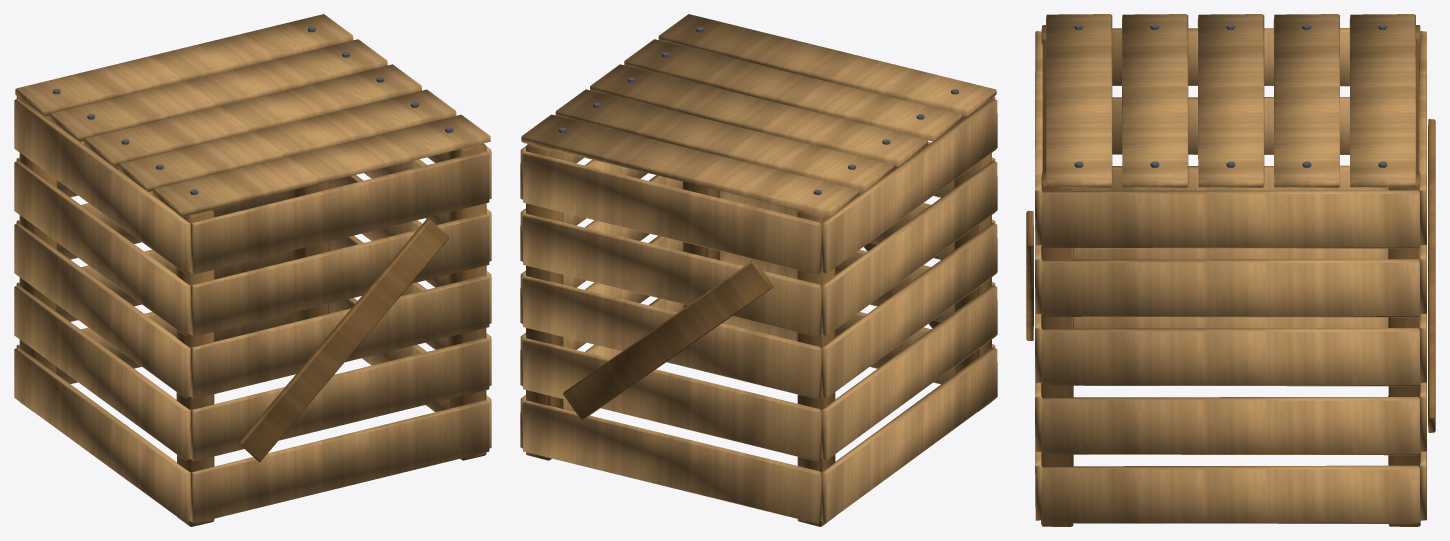
The model's file is caixote-leve.glb.
The picture shows the model from 3 angles, left to right: view 1: azimuth 30°, elevation 25°; view 2: azimuth 150°, elevation 25°; view 3: azimuth 270°, elevation 25°; orthographic projection. The views are drawn at different scales.
Visible parts, largest first — view 1: ripa.008, ripa, ripa.006, ripa.002, ripa.004, tampa, tampa.002, tampa.001, tampa.003, tampa.004, ripa-lado.004, ripa-lado.008 (+15 smaller); view 2: ripa.009, ripa.001, ripa.007, ripa.003, ripa.005, tampa.004, tampa.001, tampa, tampa.003, tampa.002, ripa-lado.002, ripa-lado.006 (+15 smaller); view 3: ripa-lado.009, ripa-lado.007, ripa-lado.005, ripa-lado.001, ripa-lado.003, tampa.002, tampa, tampa.001, tampa.004, tampa.003, ripa-lado.002, ripa-lado (+19 smaller).
Boxes of the visible parts, bbox=[...] form: ripa.008: bbox=[190, 151, 489, 274]; ripa: bbox=[190, 400, 489, 523]; ripa.006: bbox=[190, 213, 489, 336]; ripa.002: bbox=[190, 337, 489, 461]; ripa.004: bbox=[190, 275, 489, 398]; tampa: bbox=[152, 114, 490, 217]; tampa.002: bbox=[84, 64, 421, 166]; tampa.001: bbox=[118, 89, 456, 192]; tampa.003: bbox=[49, 39, 387, 141]; tampa.004: bbox=[15, 14, 353, 116]; ripa-lado.004: bbox=[14, 223, 190, 398]; ripa-lado.008: bbox=[14, 98, 190, 273]; ripa.009: bbox=[522, 151, 821, 274]; ripa.001: bbox=[522, 400, 821, 523]; ripa.007: bbox=[522, 213, 821, 336]; ripa.003: bbox=[522, 338, 821, 461]; ripa.005: bbox=[522, 276, 821, 399]; tampa.004: bbox=[521, 114, 859, 216]; tampa.001: bbox=[624, 39, 962, 141]; tampa: bbox=[658, 14, 996, 116]; tampa.003: bbox=[555, 89, 893, 191]; tampa.002: bbox=[590, 64, 927, 166]; ripa-lado.002: bbox=[821, 285, 997, 459]; ripa-lado.006: bbox=[821, 160, 997, 335]; ripa-lado.009: bbox=[1042, 190, 1419, 248]; ripa-lado.007: bbox=[1042, 259, 1419, 317]; ripa-lado.005: bbox=[1042, 328, 1419, 386]; ripa-lado.001: bbox=[1042, 465, 1419, 523]; ripa-lado.003: bbox=[1042, 397, 1419, 455]; tampa.002: bbox=[1197, 14, 1264, 187]; tampa: bbox=[1046, 14, 1112, 187]; tampa.001: bbox=[1122, 14, 1188, 187]; tampa.004: bbox=[1349, 14, 1415, 187]; tampa.003: bbox=[1273, 14, 1339, 187]; ripa-lado.002: bbox=[1073, 248, 1388, 259]; ripa-lado: bbox=[1073, 317, 1388, 328].
Bounding box in the file's own units: 0.7262 × 0.719 × 0.754.
3 materials, 2 textured.
